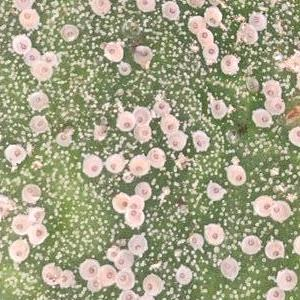Femea: (131, 109, 148, 138), (84, 155, 100, 175), (115, 111, 131, 130), (127, 209, 143, 226), (205, 7, 219, 26), (32, 64, 51, 78), (162, 2, 177, 19), (201, 44, 219, 58), (113, 195, 128, 211), (11, 38, 29, 51), (21, 11, 36, 26), (134, 185, 150, 198), (188, 17, 202, 31), (126, 196, 140, 210), (198, 30, 213, 43), (24, 51, 38, 63), (40, 51, 54, 62)
Linfa: (49, 0, 61, 35), (43, 18, 55, 49), (74, 12, 92, 27), (174, 20, 186, 38), (81, 91, 100, 102), (99, 60, 111, 75), (62, 1, 73, 17), (68, 3, 85, 13), (35, 0, 48, 13), (71, 56, 85, 68), (143, 32, 161, 41), (80, 83, 96, 93), (97, 26, 110, 38), (101, 12, 114, 24), (64, 86, 79, 96), (67, 73, 78, 86), (159, 36, 170, 49), (114, 3, 124, 17), (162, 28, 175, 37), (140, 15, 150, 26), (86, 66, 95, 78), (85, 47, 94, 58), (141, 26, 155, 33), (89, 40, 98, 50), (35, 35, 41, 46), (0, 21, 7, 30)
